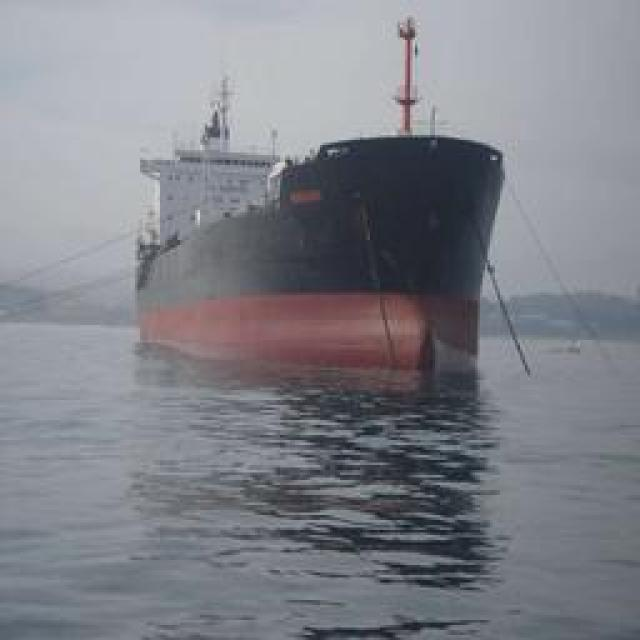CIV_Ship: (136, 134, 509, 388)
